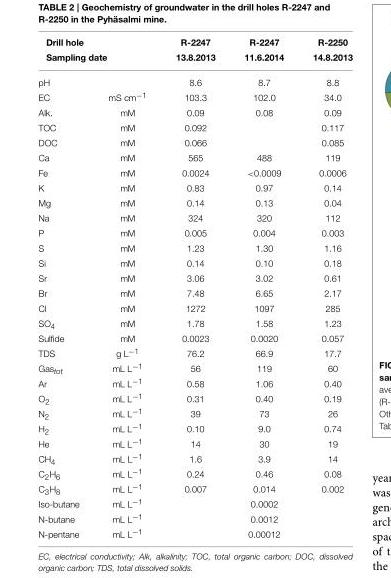table: (37, 37, 351, 538)
table column: (160, 37, 229, 538), (229, 37, 297, 538), (93, 37, 160, 538), (37, 37, 93, 538), (297, 37, 351, 538)
table column header: (37, 37, 351, 88)
table row: (37, 49, 351, 69), (37, 69, 351, 88), (37, 88, 351, 105), (37, 315, 351, 331), (37, 359, 351, 375), (37, 390, 351, 406), (37, 450, 351, 466), (37, 105, 351, 120), (37, 120, 351, 135), (37, 135, 351, 150), (37, 150, 351, 165), (37, 165, 351, 180), (37, 180, 351, 195), (37, 195, 351, 210), (37, 210, 351, 225), (37, 225, 351, 240), (37, 240, 351, 255), (37, 255, 351, 270), (37, 270, 351, 285), (37, 285, 351, 300), (37, 300, 351, 315), (37, 344, 351, 359), (37, 375, 351, 390), (37, 406, 351, 421), (37, 421, 351, 436), (37, 466, 351, 481), (37, 481, 351, 496), (37, 510, 351, 525), (37, 436, 351, 450), (37, 496, 351, 510), (37, 331, 351, 344), (37, 525, 351, 538), (37, 37, 351, 49)
table spanning cell: (37, 37, 160, 69), (160, 37, 229, 88), (229, 37, 297, 88), (297, 37, 351, 88)
